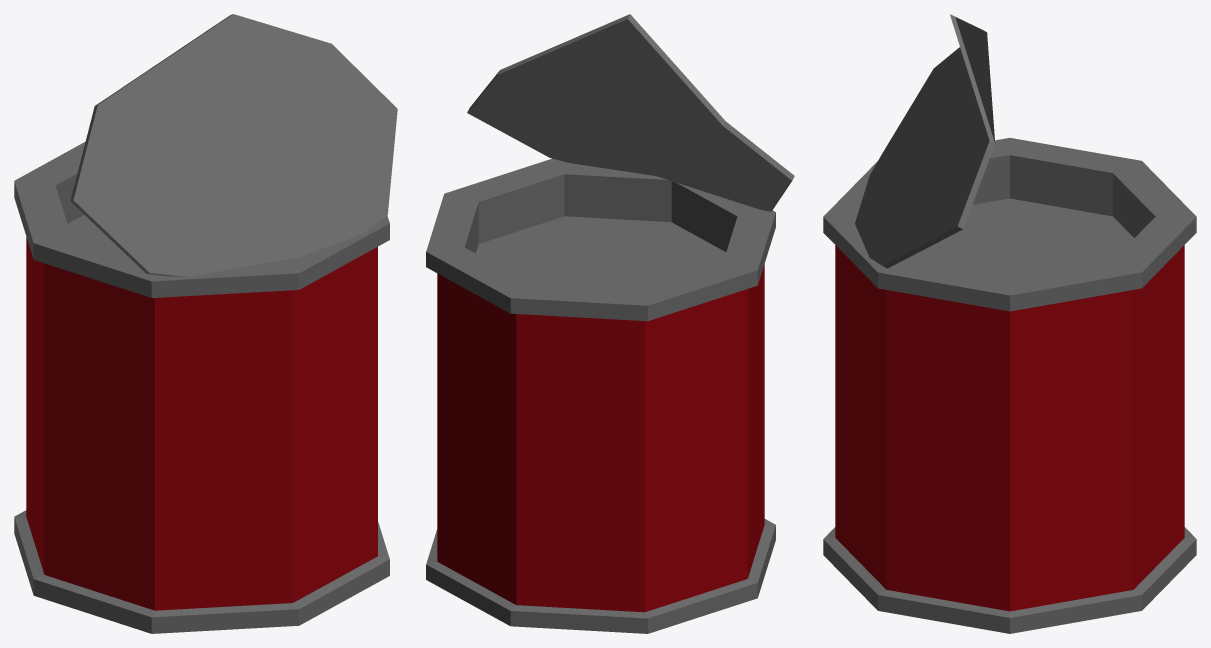
The model's file is Tin.fbx.
3 renders of one model, left to right at view 1: azimuth 30°, elevation 25°; view 2: azimuth 150°, elevation 25°; view 3: azimuth 270°, elevation 25°, orthographic. The views are drawn at different scales.
Visible parts, largest first — view 1: Cylinder; view 2: Cylinder; view 3: Cylinder.
Boxes of the visible parts, x1,y1,x2,y2 form: Cylinder: [14, 14, 397, 633]; Cylinder: [426, 14, 794, 633]; Cylinder: [823, 14, 1196, 633].
Size of the model in its own units: 200 by 320 by 200.
